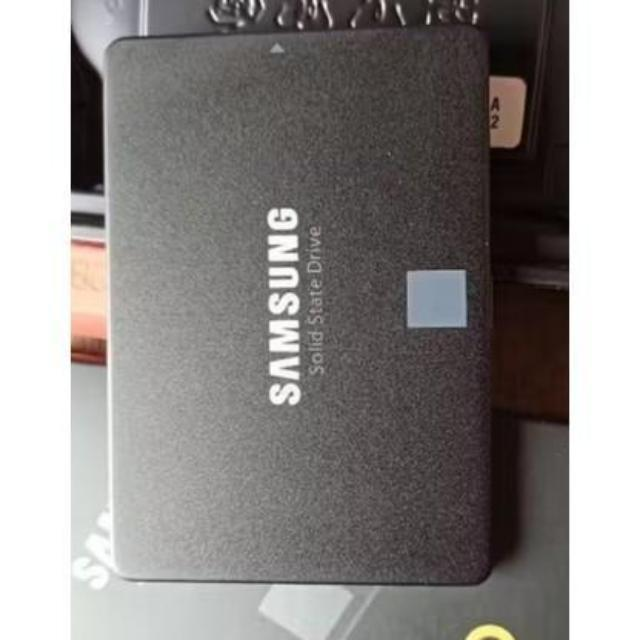DISK: (99, 24, 510, 602)
